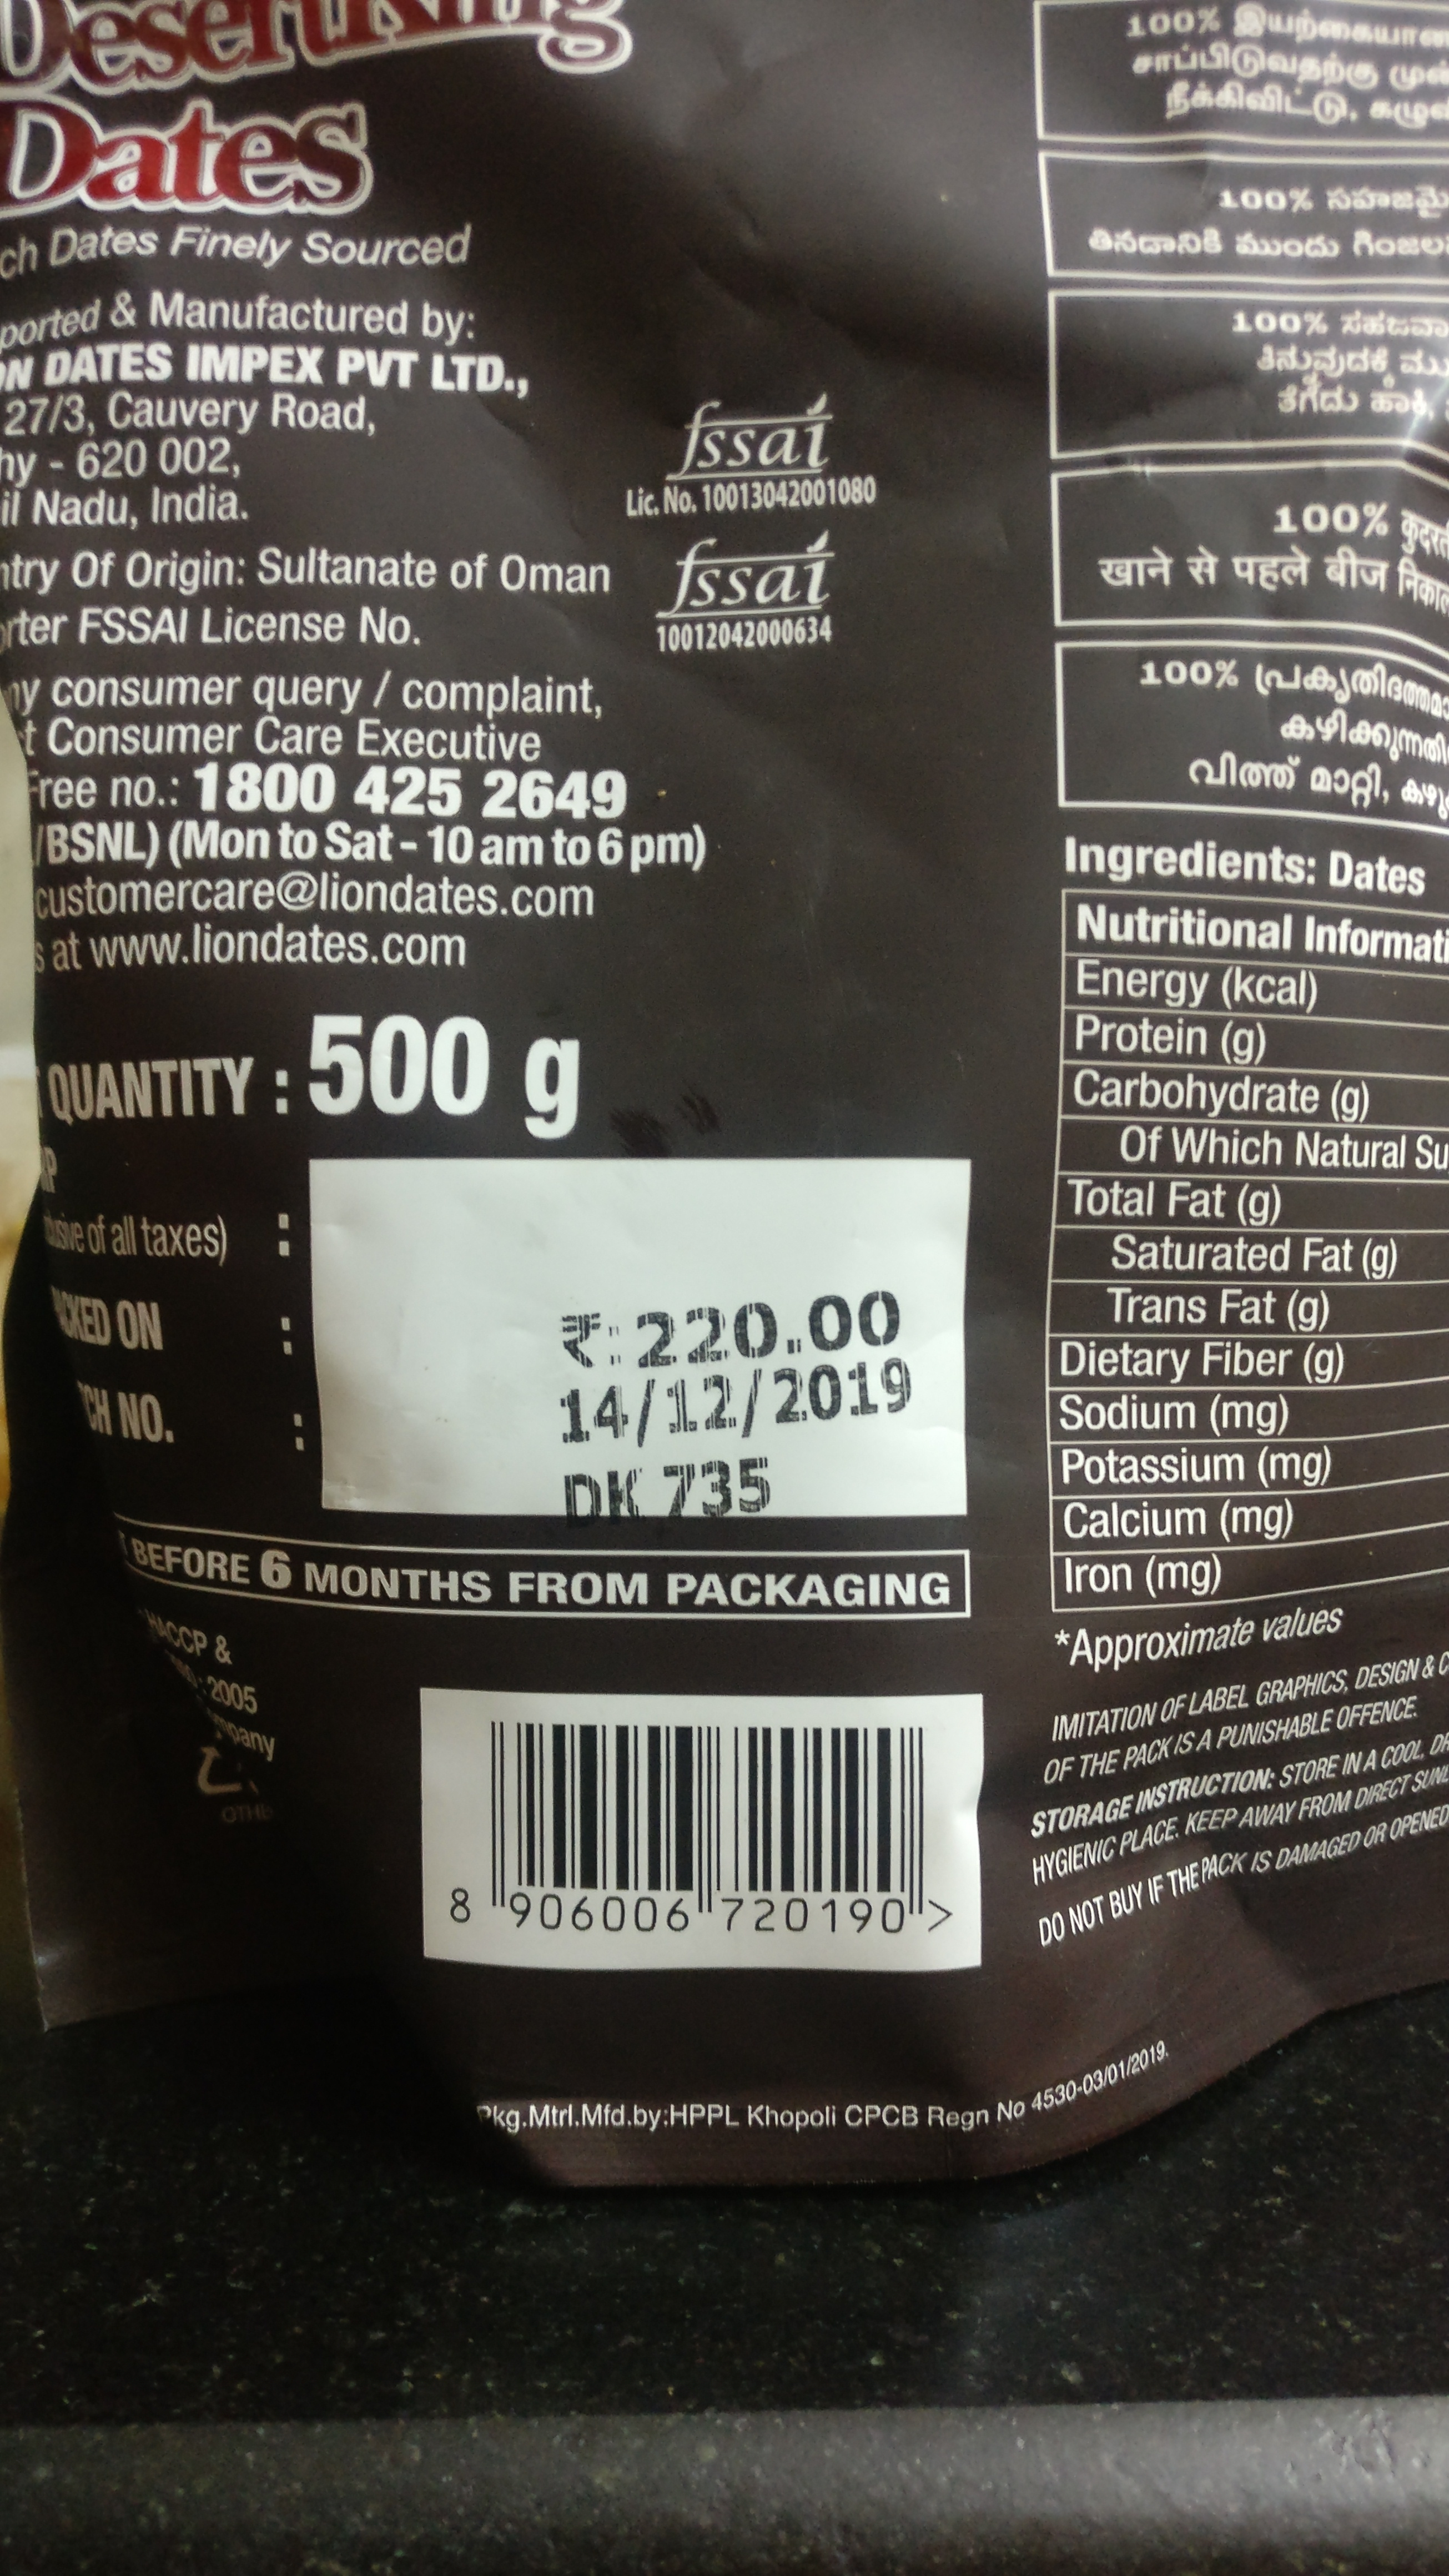barcode: (414, 1691, 970, 1982)
